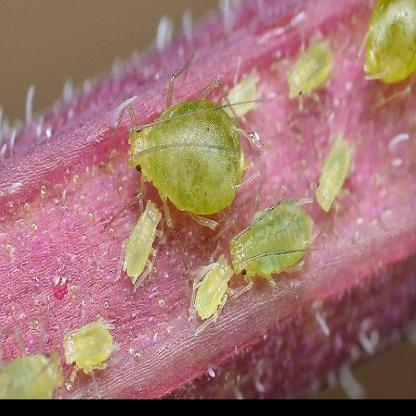aphid: (122, 73, 256, 238), (226, 194, 318, 286), (349, 0, 416, 102), (114, 193, 175, 284), (60, 307, 121, 393), (185, 243, 245, 327), (0, 327, 68, 401), (310, 133, 361, 221), (281, 42, 338, 108), (222, 64, 266, 113)
